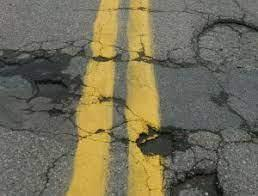alligator-crack: (4, 7, 258, 196)
